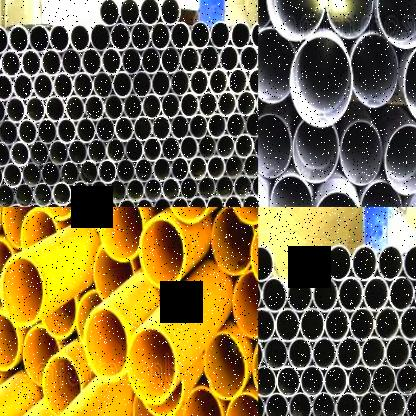pipe: (290, 36, 352, 128), (128, 326, 177, 405), (83, 306, 129, 383), (351, 34, 398, 108), (139, 216, 186, 289), (0, 254, 45, 328), (204, 330, 249, 400), (292, 120, 340, 184), (211, 207, 255, 275), (258, 27, 295, 104), (340, 120, 382, 185), (98, 207, 144, 261), (92, 244, 134, 302), (22, 325, 61, 387), (42, 354, 81, 416), (267, 0, 325, 41), (384, 124, 416, 195), (258, 113, 292, 178), (375, 0, 416, 49), (326, 0, 373, 39), (233, 268, 258, 338), (20, 207, 58, 250), (1, 207, 37, 250), (270, 176, 314, 207), (183, 385, 224, 416), (360, 180, 402, 207), (0, 312, 19, 371), (403, 40, 416, 125), (85, 207, 122, 233), (338, 275, 364, 312), (287, 275, 313, 312), (326, 244, 352, 281), (352, 244, 378, 281), (364, 275, 390, 311), (389, 275, 415, 311), (324, 306, 350, 342), (262, 276, 288, 312), (378, 244, 404, 280), (132, 394, 174, 416), (312, 276, 338, 311), (300, 306, 325, 342), (336, 336, 362, 370), (374, 306, 400, 340), (385, 334, 410, 369), (275, 307, 300, 342), (310, 191, 364, 207), (361, 335, 386, 369), (312, 336, 337, 370), (350, 306, 374, 341), (288, 337, 313, 370), (165, 207, 212, 224), (0, 237, 13, 298), (225, 392, 258, 416), (300, 364, 324, 397), (324, 364, 348, 397), (264, 337, 288, 370), (372, 364, 396, 396), (276, 365, 300, 397), (348, 364, 372, 396), (395, 363, 416, 395), (8, 24, 30, 53), (130, 21, 151, 51), (29, 23, 50, 53), (358, 390, 382, 416), (382, 390, 406, 416), (40, 48, 62, 76), (0, 49, 22, 77), (52, 72, 74, 100), (258, 306, 275, 342), (109, 22, 130, 51), (90, 22, 111, 51), (49, 23, 70, 52), (288, 391, 312, 416), (312, 391, 336, 416), (336, 391, 360, 416), (399, 305, 416, 340), (258, 244, 274, 281), (230, 21, 251, 49), (170, 22, 191, 50), (150, 22, 171, 50), (219, 44, 240, 72), (81, 47, 102, 75), (61, 48, 82, 76), (21, 48, 42, 76), (170, 68, 191, 96), (73, 70, 94, 98), (33, 72, 54, 100), (5, 96, 26, 124), (258, 365, 276, 397), (264, 392, 288, 416), (121, 47, 142, 74), (45, 95, 66, 122), (210, 20, 230, 48), (190, 21, 210, 49), (70, 23, 90, 51), (238, 44, 258, 72), (200, 44, 220, 72), (160, 46, 180, 74), (141, 46, 161, 74), (190, 68, 210, 96), (151, 69, 171, 97), (112, 70, 132, 98), (93, 70, 113, 98), (119, 0, 140, 26), (228, 68, 249, 94), (13, 74, 34, 100), (65, 95, 86, 121), (25, 96, 46, 122), (57, 118, 78, 144), (40, 160, 61, 186), (102, 47, 122, 74), (132, 70, 152, 97), (142, 92, 162, 119), (122, 92, 142, 119), (104, 93, 124, 120), (160, 0, 181, 25), (139, 0, 160, 25), (98, 0, 119, 25), (188, 114, 209, 139), (180, 46, 200, 72), (208, 68, 228, 94), (236, 90, 256, 116), (198, 92, 218, 118), (180, 92, 200, 118), (161, 92, 181, 118), (84, 95, 104, 121), (114, 116, 134, 142), (96, 116, 116, 142), (76, 117, 96, 143), (37, 118, 57, 144), (18, 118, 38, 144), (30, 140, 50, 166), (10, 140, 30, 166), (152, 156, 172, 182), (60, 160, 80, 186), (22, 161, 42, 187), (2, 162, 22, 188), (40, 207, 79, 220), (402, 244, 416, 280), (68, 139, 88, 164), (49, 140, 69, 165), (52, 181, 72, 206), (34, 182, 54, 207), (14, 182, 34, 207), (226, 112, 245, 138), (0, 119, 19, 145), (198, 134, 217, 160), (143, 136, 162, 162), (125, 136, 144, 162), (107, 137, 126, 163), (207, 154, 226, 180), (171, 156, 190, 182), (98, 158, 117, 184), (215, 174, 234, 200), (108, 178, 127, 204), (133, 116, 153, 140), (224, 154, 244, 178), (134, 158, 154, 182), (79, 160, 99, 184), (208, 113, 227, 138), (171, 115, 190, 140), (152, 115, 171, 140), (216, 134, 235, 159), (116, 158, 135, 183), (126, 177, 145, 202), (218, 90, 236, 116), (180, 134, 198, 160), (162, 135, 180, 161), (88, 138, 106, 164), (144, 176, 162, 202), (235, 134, 254, 158), (188, 156, 207, 180), (234, 174, 252, 199), (198, 175, 216, 200), (162, 176, 180, 201), (180, 176, 198, 200), (90, 180, 108, 204), (72, 181, 90, 205), (0, 72, 13, 100), (244, 152, 258, 178), (0, 183, 15, 207), (245, 111, 258, 137), (405, 389, 416, 416), (248, 67, 258, 94), (0, 141, 10, 167), (224, 193, 242, 207), (152, 195, 172, 207), (206, 194, 224, 207), (409, 334, 416, 367), (188, 195, 207, 207), (171, 195, 190, 207), (0, 25, 8, 53), (242, 193, 258, 207), (250, 21, 258, 48), (258, 337, 264, 370), (258, 392, 266, 416), (134, 198, 154, 207), (117, 198, 136, 207), (251, 174, 258, 198), (99, 199, 118, 207), (0, 96, 5, 123), (253, 132, 258, 158), (82, 200, 100, 207), (62, 201, 82, 207), (45, 201, 64, 207), (25, 202, 45, 207), (0, 162, 3, 188)
